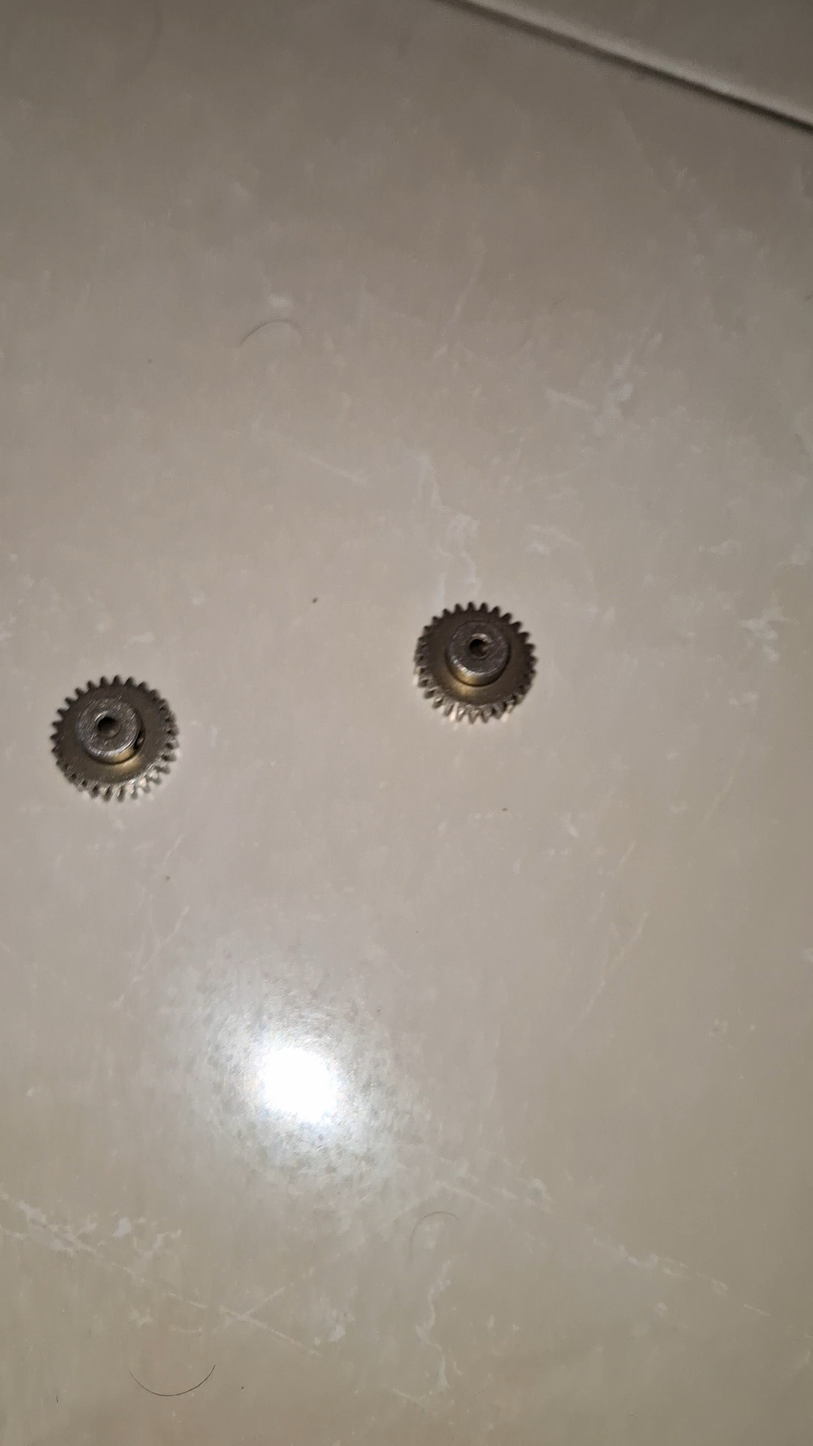spur gear: (52, 677, 177, 798), (415, 603, 535, 721)
